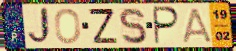A: (182, 7, 214, 44)
J: (26, 6, 53, 47)
O: (53, 7, 82, 45)
P: (153, 5, 182, 46)
S: (117, 6, 149, 45)
Z: (87, 7, 120, 45)
